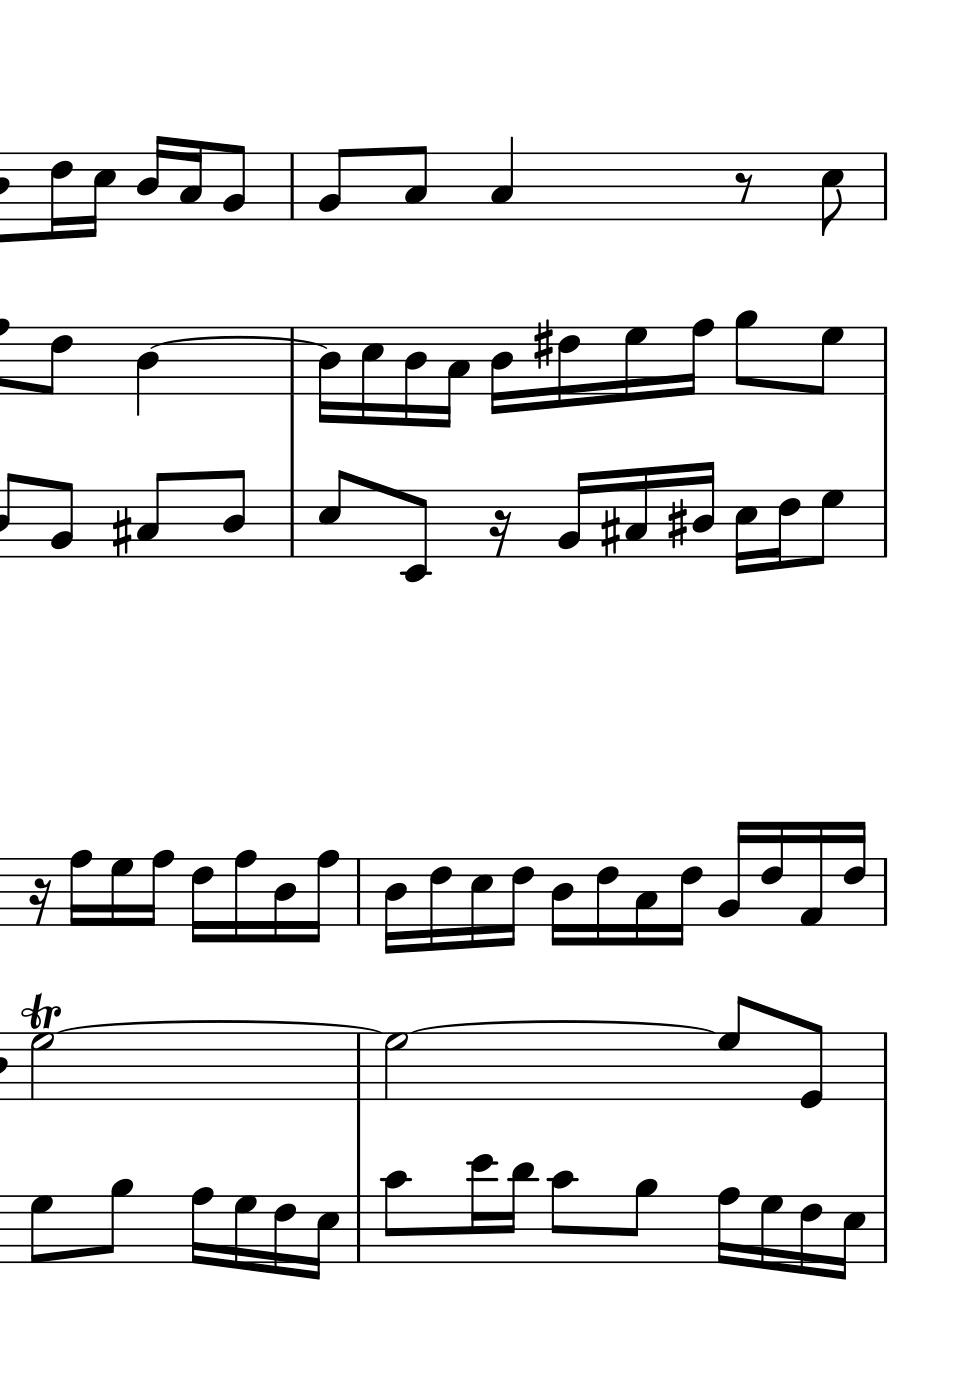16_1: (797, 819, 826, 932)
16_11: (501, 1161, 535, 1266)
16_12: (466, 1153, 496, 1265)
16_2: (715, 819, 749, 927), (555, 470, 588, 559)
16_3: (438, 324, 470, 429), (623, 466, 649, 558), (632, 856, 658, 946), (177, 139, 203, 221)
16_4: (135, 133, 167, 221), (401, 324, 427, 429), (382, 857, 407, 957), (316, 324, 340, 425), (488, 324, 514, 416), (692, 459, 716, 558), (549, 857, 574, 948), (272, 857, 296, 944)
16_5: (307, 1193, 340, 1281), (84, 150, 116, 238), (835, 1193, 867, 1281), (358, 324, 384, 427), (468, 856, 493, 949), (732, 487, 757, 575)
16_6: (667, 855, 703, 947), (498, 855, 533, 947), (759, 820, 785, 928), (842, 818, 867, 928), (769, 487, 799, 571), (594, 854, 620, 947), (427, 856, 452, 952), (48, 150, 73, 241), (189, 856, 214, 945), (555, 324, 580, 410), (798, 1193, 823, 1277), (272, 1193, 296, 1277)
16_7: (622, 323, 648, 405), (231, 1192, 256, 1275), (757, 1192, 782, 1275), (107, 855, 134, 930)
16_8: (304, 849, 340, 943), (231, 848, 258, 944), (680, 318, 712, 397), (142, 849, 174, 928), (188, 1185, 214, 1268), (67, 849, 93, 929), (715, 1185, 740, 1267)
2_7: (381, 1031, 408, 1103), (27, 1031, 54, 1102)
4_3: (488, 136, 515, 222)
4_4: (134, 324, 160, 418)
8_-2: (400, 488, 431, 583)
8_0: (797, 1020, 825, 1111)
8_10: (380, 1170, 412, 1265), (547, 1169, 575, 1266)
8_2: (316, 147, 350, 222), (48, 479, 75, 560), (221, 143, 247, 222)
8_3: (135, 471, 170, 559), (401, 144, 428, 222)
8_4: (221, 468, 247, 559)
8_5: (316, 468, 348, 559), (819, 150, 845, 236)
8_6: (40, 324, 73, 397)
8_7: (716, 994, 747, 1102), (810, 488, 842, 566), (810, 324, 843, 396), (28, 1193, 54, 1266)
8_9: (623, 1178, 658, 1265), (100, 1177, 133, 1264), (732, 309, 757, 396)
Rests16: (487, 508, 512, 559), (28, 877, 52, 927)
Rests8: (733, 170, 754, 205)
Sharp: (108, 505, 132, 557), (531, 318, 554, 371), (666, 498, 688, 549), (599, 506, 620, 559)
Single_barline: (283, 151, 302, 220), (349, 1195, 367, 1262), (876, 152, 893, 221), (350, 1035, 368, 1100), (284, 327, 301, 394), (877, 327, 894, 394), (876, 858, 893, 926), (876, 1032, 892, 1100), (284, 490, 300, 557), (876, 1196, 892, 1263), (877, 491, 893, 556)
Slur: (63, 1018, 391, 1034), (410, 1016, 719, 1032)
Trill: (20, 990, 62, 1032)
